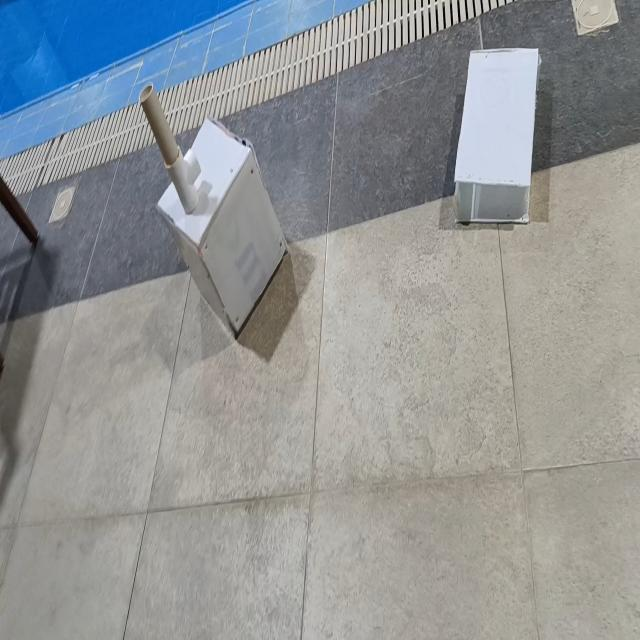Cube: (156, 113, 288, 340)
Cuboid: (452, 45, 540, 225)
